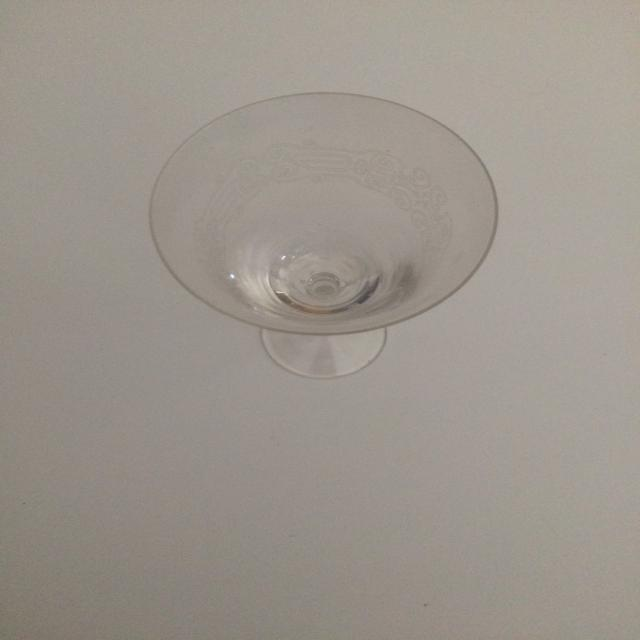glass: (147, 91, 499, 379)
